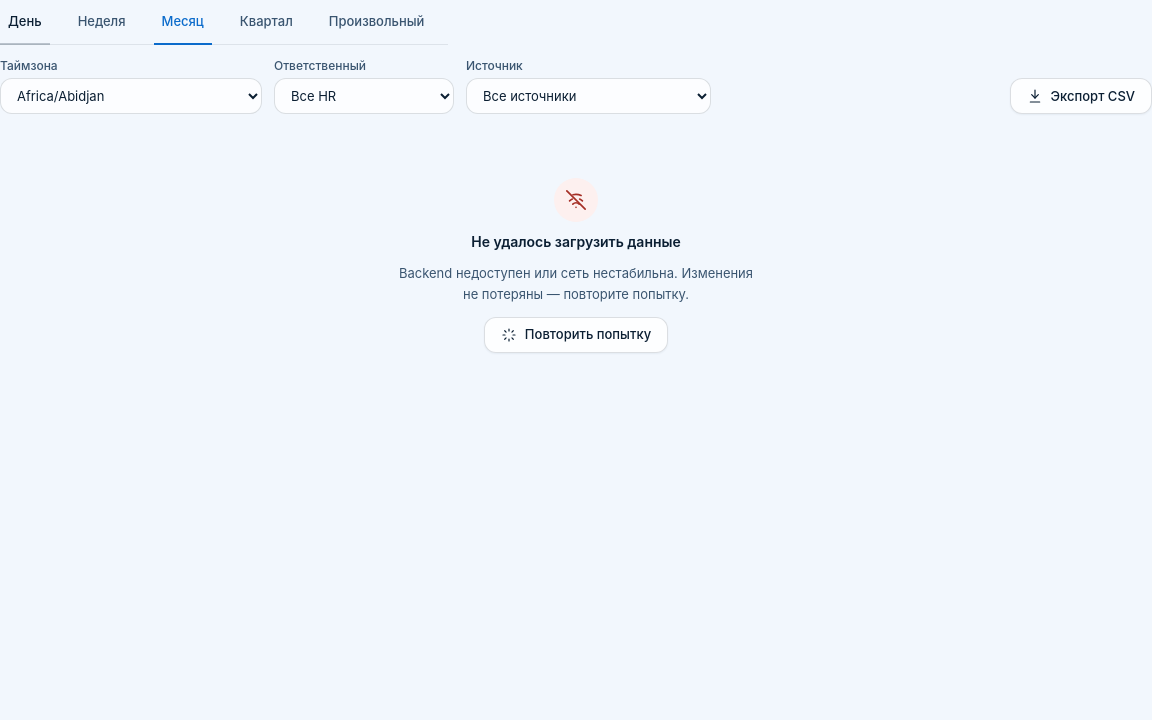
Test: AnalyticsPage › shows the error state and retries
The width and height of the screenshot is (1152, 720).
Expected: the heading "Не удалось загрузить данные" is shown, x1=471 y1=234 x2=681 y2=251
Click the button "Повторить попытку" at (576, 335), box x1=484 y1=317 x2=668 y2=353
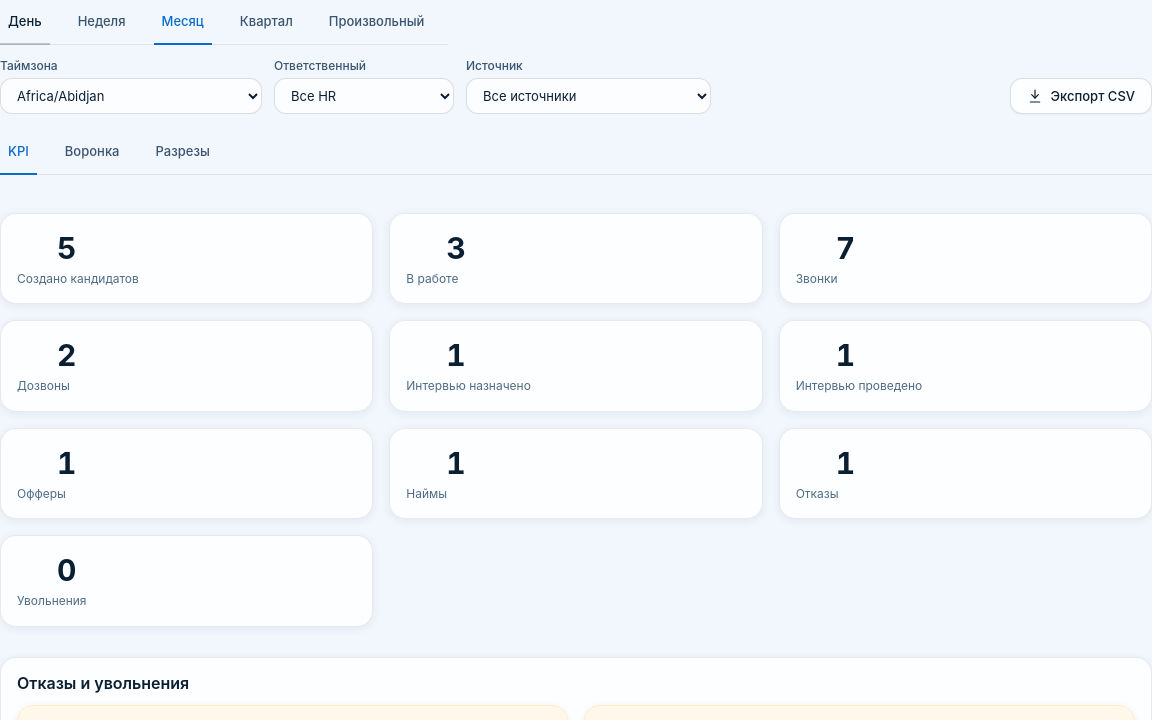
Now the text "Создано кандидатов" is shown, box x1=17 y1=271 x2=139 y2=286
